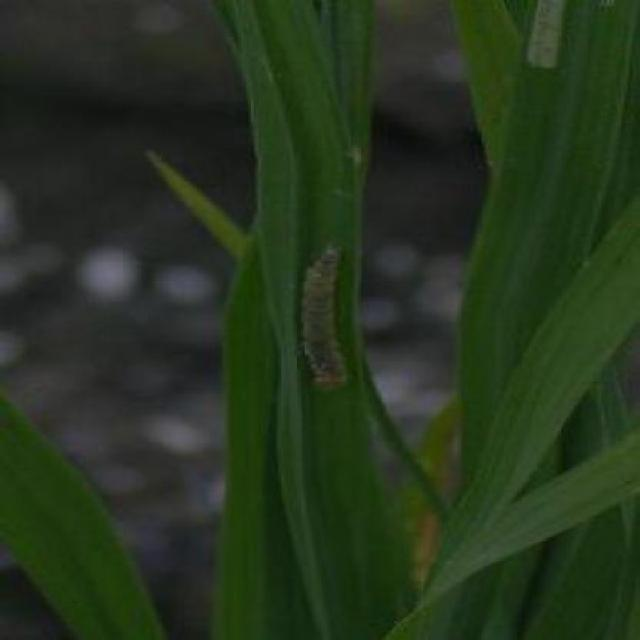leaf-folder: (284, 238, 370, 397)
